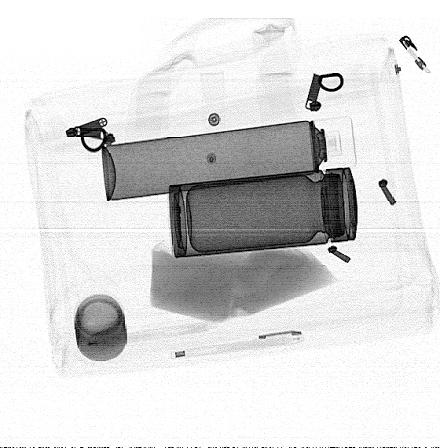Sprayer: (102, 116, 358, 201)
